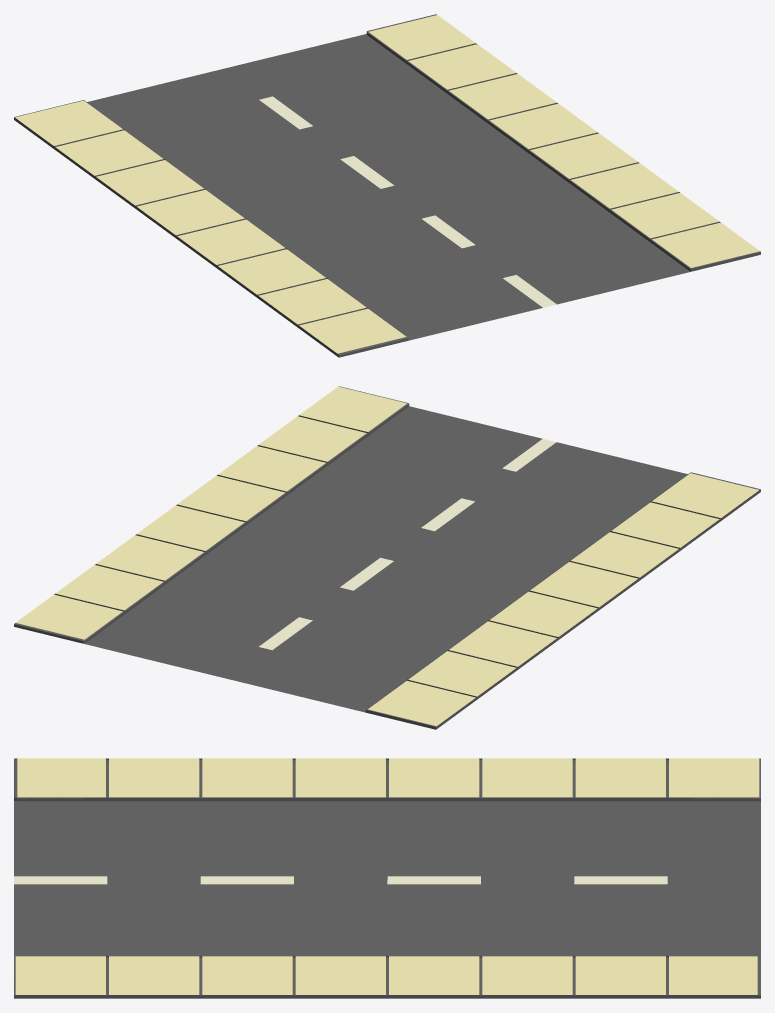
Rendered from road.obj.
3 renders of one model, top to bottom at view 1: azimuth 30°, elevation 25°; view 2: azimuth 150°, elevation 25°; view 3: azimuth 270°, elevation 25°, orthographic. The views are drawn at different scales.
Visible parts, largest first — view 1: Plane.001; view 2: Plane.001; view 3: Plane.001.
Part boxes in pixels (<box>): Plane.001: <box>14,14,760,357</box>; Plane.001: <box>14,386,760,729</box>; Plane.001: <box>14,758,760,998</box>.
Size of the model in its own units: 12 by 0.0817 by 16.
